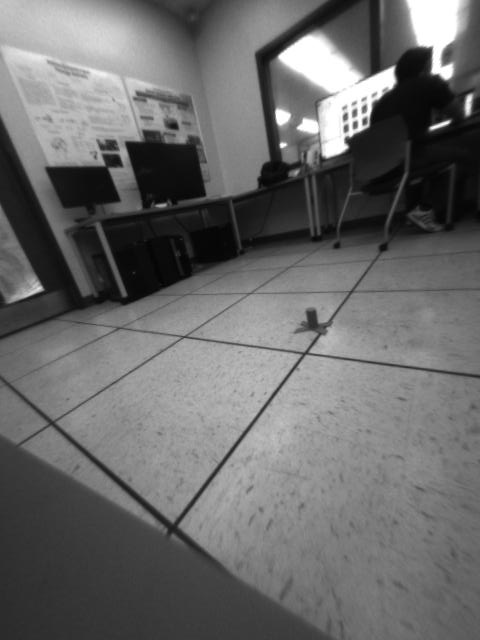X: (292, 305, 336, 338)
